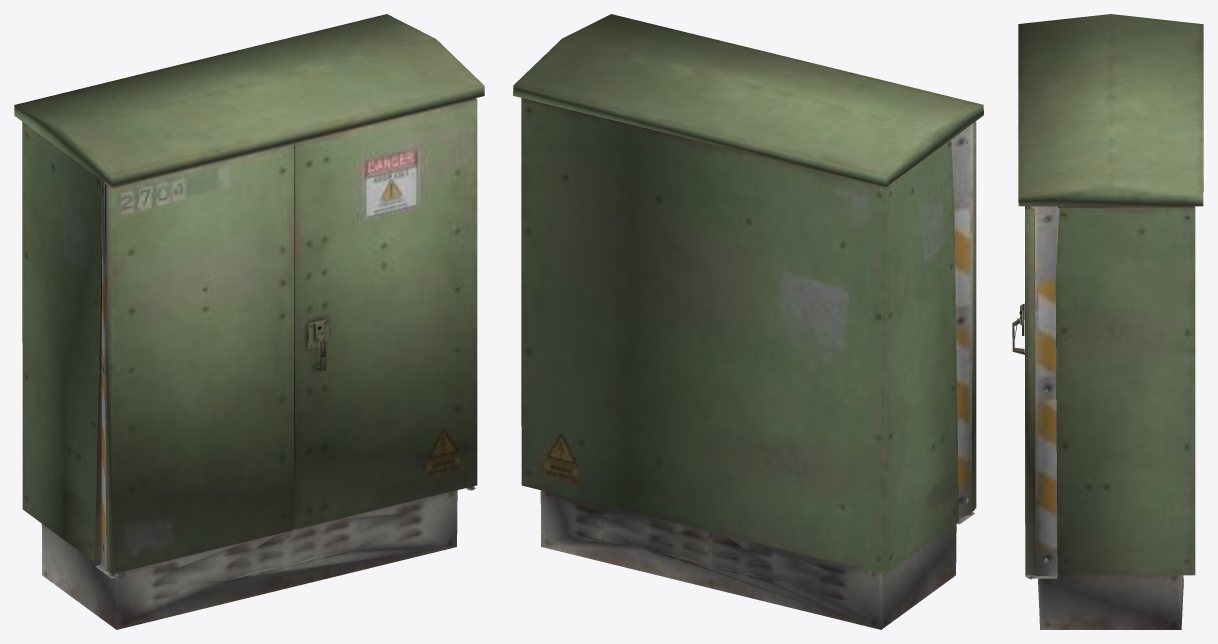
The model's file is utility_box.glb.
3 renders of one model, left to right at view 1: azimuth 30°, elevation 25°; view 2: azimuth 150°, elevation 25°; view 3: azimuth 270°, elevation 25°, orthographic. The views are drawn at different scales.
Visible parts, largest first — view 1: utility_box; view 2: utility_box; view 3: utility_box.
Boxes of the visible parts, left/top/right/bottom form: utility_box: left=14, top=14, right=484, bottom=629; utility_box: left=513, top=14, right=983, bottom=629; utility_box: left=1012, top=14, right=1203, bottom=629.
Bounding box in the file's own units: 0.9174 × 1.12 × 0.4299.
Materials: 1 (1 with a texture image).
